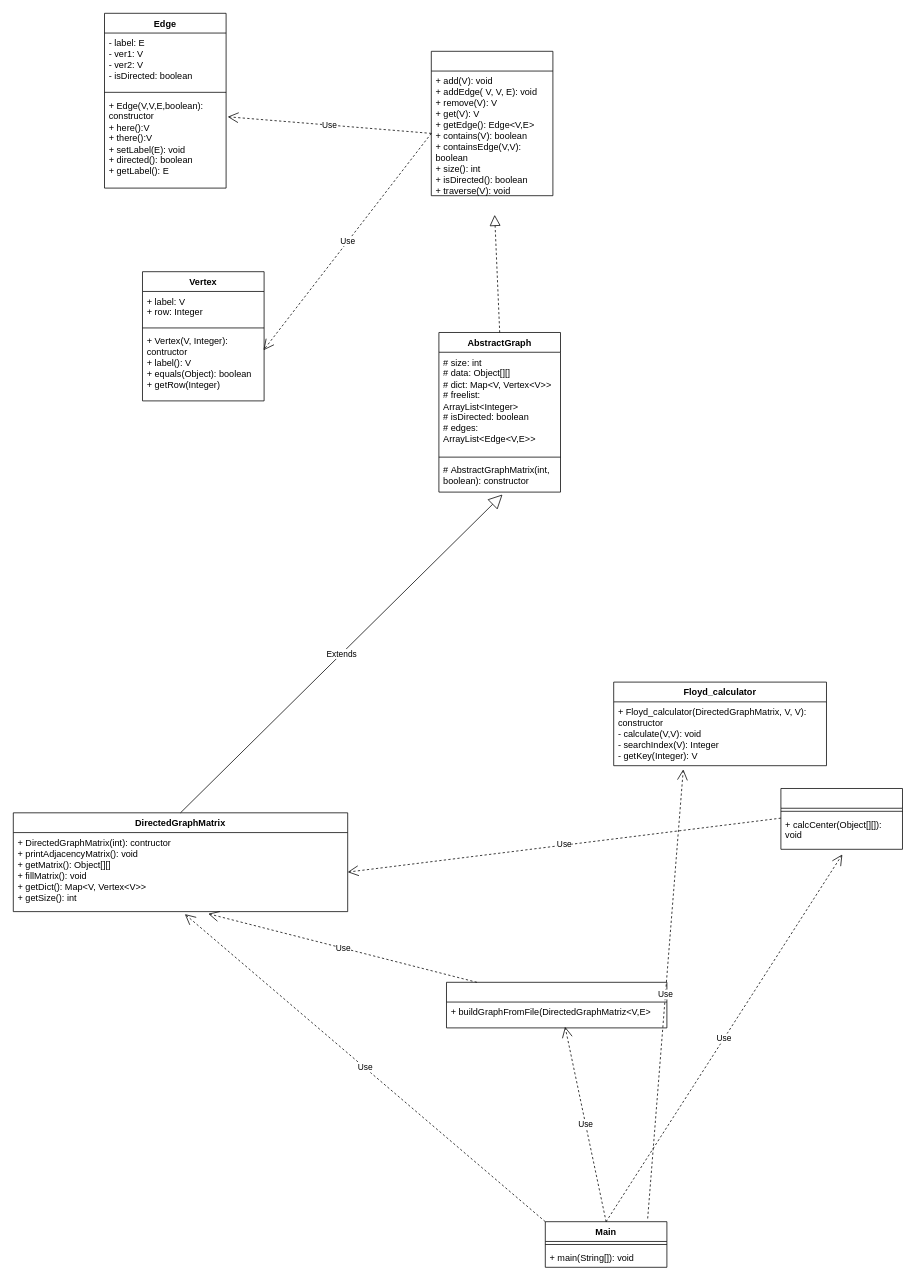
Some shapes in this 916 by 1283 pixel diagram are drawn without their labels. Here are the shapes that lost their labels. From the top down, the box of each, then its label:
(431, 51, 553, 196): GraphInterface
(780, 788, 902, 849): Center_Calculator
(446, 982, 667, 1028): GraphBuilder
